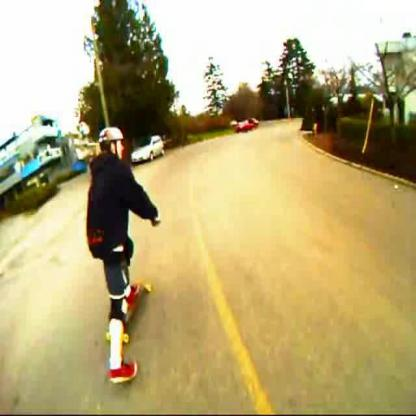other: (90, 270, 162, 395), (206, 286, 280, 403), (231, 116, 269, 135)
